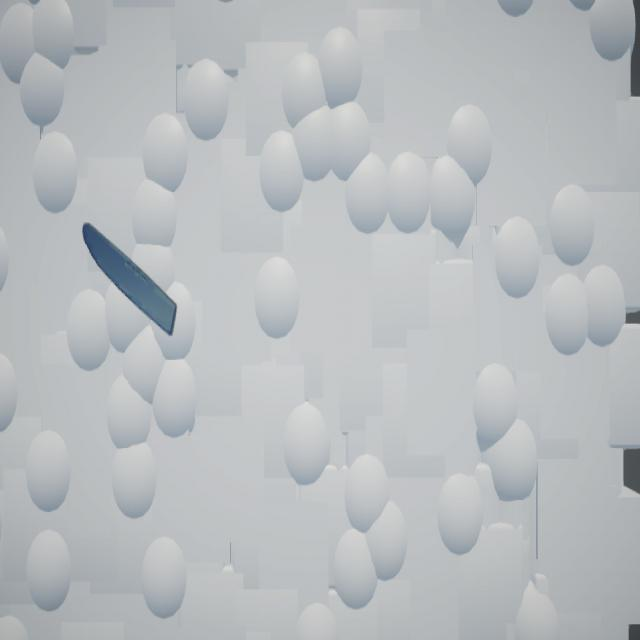top_knife: (83, 223, 179, 338)
